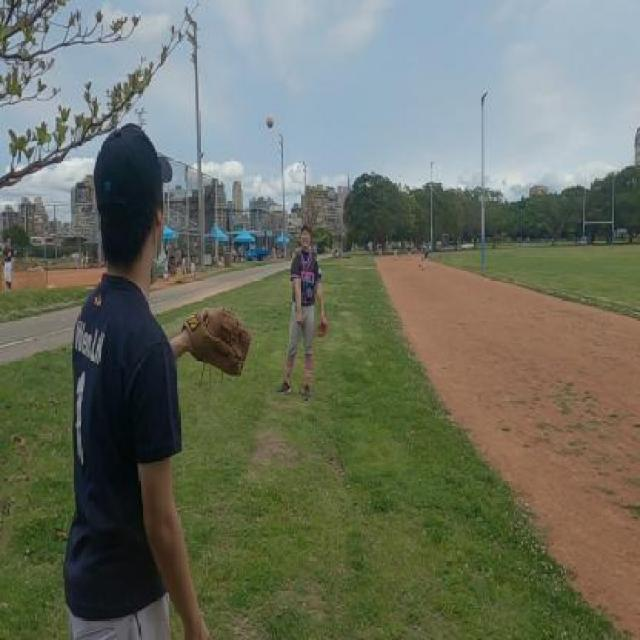baseball: (266, 115, 274, 128)
